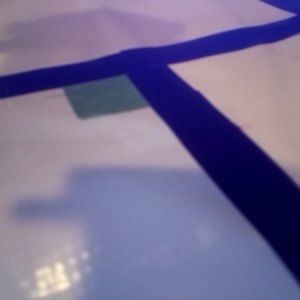bottom_right: (95, 26, 187, 61)
